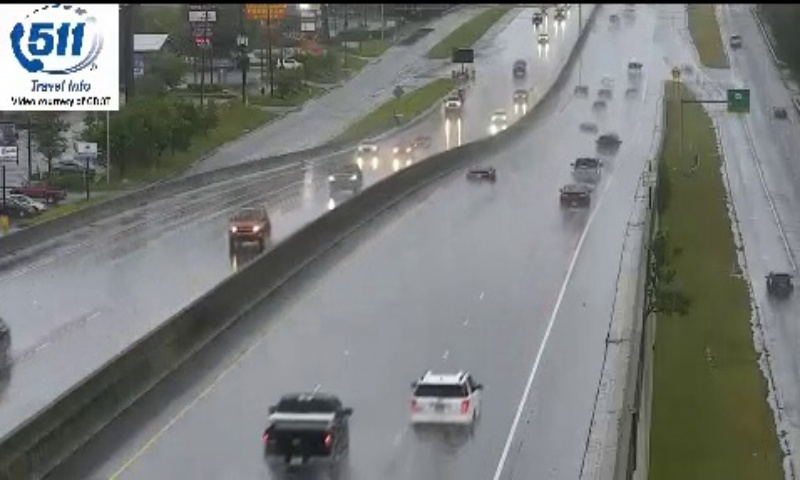car: (264, 394, 348, 468), (411, 373, 480, 424), (560, 182, 590, 209), (572, 156, 600, 182)
